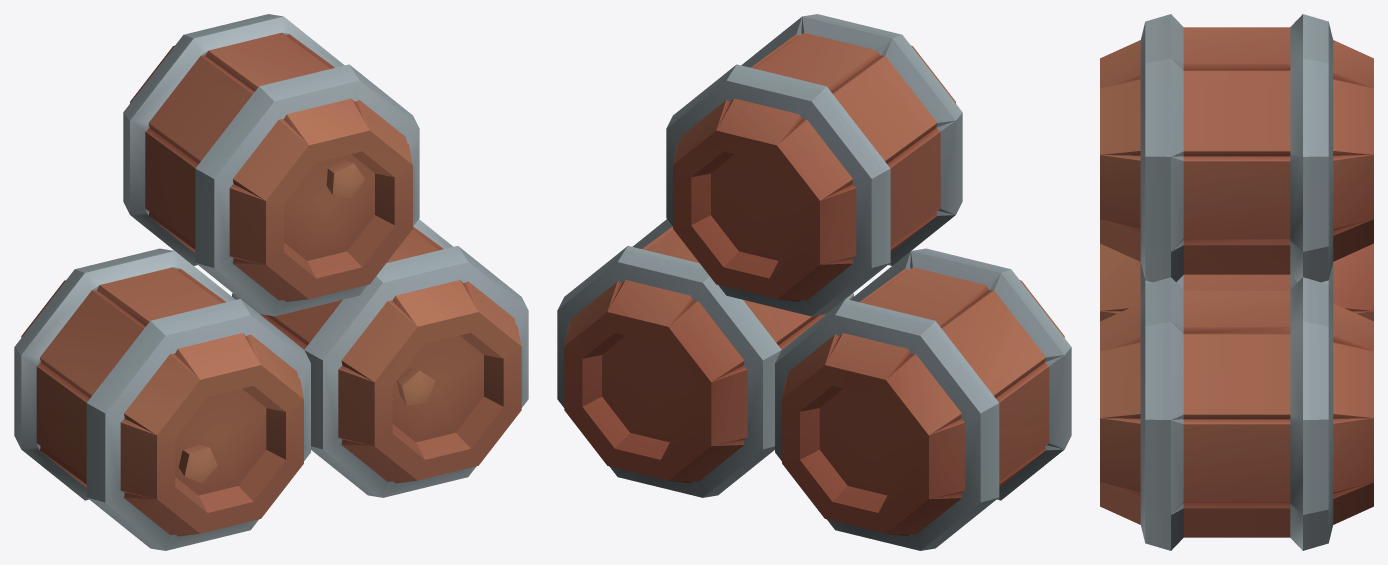
Rendered from barrel_small_stack.glb.
The picture shows the model from 3 angles, left to right: view 1: azimuth 30°, elevation 25°; view 2: azimuth 150°, elevation 25°; view 3: azimuth 270°, elevation 25°; orthographic projection.
Visible parts, largest first — view 1: barrel_small_stack; view 2: barrel_small_stack; view 3: barrel_small_stack.
Part boxes in pixels (x1,y1,x2,y2): barrel_small_stack: (14,14,528,550); barrel_small_stack: (557,14,1071,550); barrel_small_stack: (1100,14,1373,550).
Size of the model in its own units: 1.85 by 1.77 by 1.
1 material, 1 textured.
